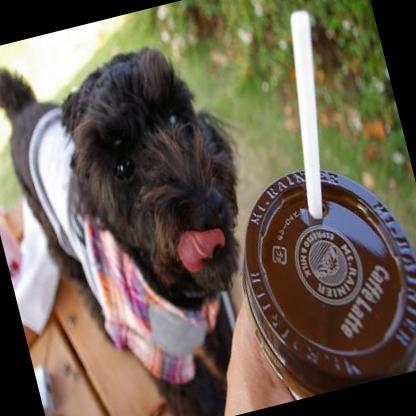toy_poodle: (0, 11, 308, 416)
